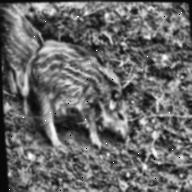boar: (26, 42, 134, 160)
